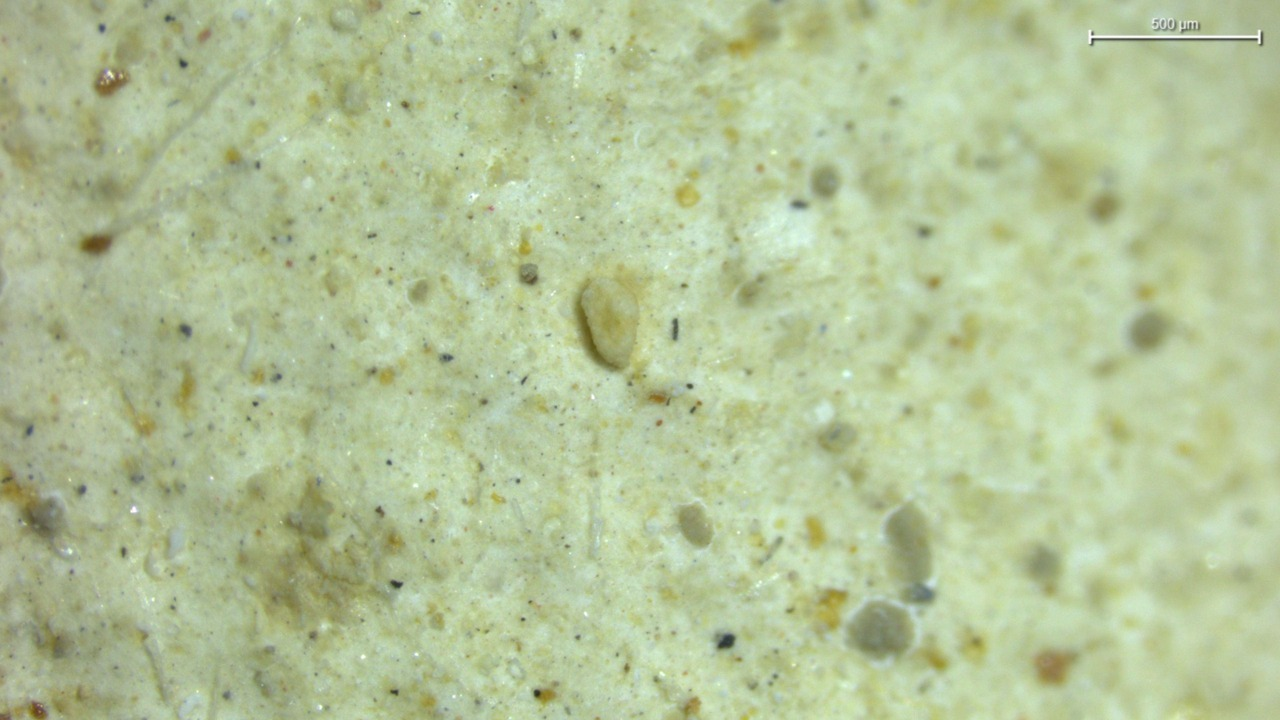microplastic_fragment: (579, 278, 639, 368)
